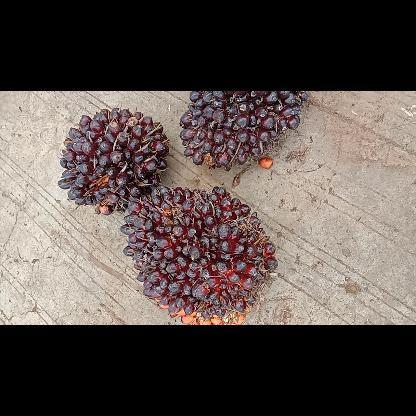TBS mentah: (118, 182, 282, 324), (54, 106, 172, 216), (174, 91, 310, 171)
